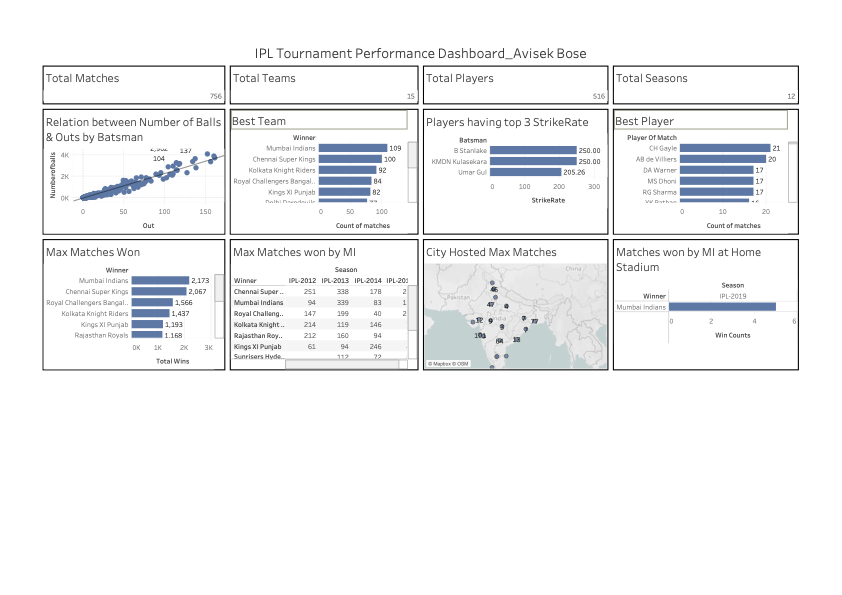

Layout of this report page (visuals, bound fields, positions):
{"tool":"tableau","page":{"name":"IPL Tournament Performance Dashboard_Avisek Bose","canvas":[1000,1000],"units":"permille","ordinal":0},"visuals":[{"type":"title","box":[6.4,11.9,987.3,52.2]},{"type":"worksheet","title":"Total Matches","mark":"Automatic","box":[6.4,64.2,243,129.8]},{"type":"worksheet","title":"Total Teams","mark":"Automatic","box":[249.3,64.2,250.6,129.8]},{"type":"worksheet","title":"Total Players","mark":"Automatic","box":[499.9,64.2,246.8,129.8]},{"type":"worksheet","title":"Total Seasons","mark":"Automatic","box":[746.8,64.2,246.9,129.8]},{"type":"worksheet","title":"Relation between Number of Balls & Outs by Batsman","mark":"Automatic","rows":["numberofballs"],"cols":["out"],"box":[6.4,194,243,388]},{"type":"worksheet","title":"Best Team","mark":"Automatic","rows":["winner"],"cols":["matches_5C6B19491CEA463AA22CF6D216101D35"],"box":[249.3,194,250.6,388]},{"type":"worksheet","title":"Players having top 3 StrikeRate","mark":"Automatic","rows":["batsman"],"cols":["Calculation_3155636050186246"],"box":[499.9,194,246.8,388]},{"type":"worksheet","title":"Best Player","mark":"Automatic","rows":["player_of_match"],"cols":["matches_5C6B19491CEA463AA22CF6D216101D35"],"box":[746.8,194,246.9,388]},{"type":"dashboard-object","box":[0,256.7,19.1,34.3]},{"type":"worksheet","title":"Max Matches Won","mark":"Automatic","rows":["winner"],"cols":["Calculation_3155636037726208"],"box":[6.4,582,243,406.1]},{"type":"worksheet","title":"Max Matches won by MI","mark":"Automatic","rows":["winner"],"cols":["Season"],"box":[249.3,582,250.6,406.1]},{"type":"worksheet","title":"City Hosted Max Matches","mark":"Multipolygon","box":[499.9,582,246.8,406.1]},{"type":"worksheet","title":"Matches won by MI at Home Stadium","mark":"Automatic","rows":["winner"],"cols":["Season","Calculation_3155636040908801"],"box":[746.8,582,246.9,406.1]}]}

Visuals, with their boxes on the dashboard's canvas, which has no fixed pixel size, in thousandths of its width and height (x1, y1, x2, y2). These are canvas units, not pixel positions in the 842x595 screenshot, which may show the page scaled, cropped or inside an application window:
title: region(6, 12, 994, 64)
"Total Matches" worksheet: region(6, 64, 249, 194)
"Total Teams" worksheet: region(249, 64, 500, 194)
"Total Players" worksheet: region(500, 64, 747, 194)
"Total Seasons" worksheet: region(747, 64, 994, 194)
"Relation between Number of Balls & Outs by Batsman" worksheet: region(6, 194, 249, 582)
"Best Team" worksheet: region(249, 194, 500, 582)
"Players having top 3 StrikeRate" worksheet: region(500, 194, 747, 582)
"Best Player" worksheet: region(747, 194, 994, 582)
dashboard-object: region(0, 257, 19, 291)
"Max Matches Won" worksheet: region(6, 582, 249, 988)
"Max Matches won by MI" worksheet: region(249, 582, 500, 988)
"City Hosted Max Matches" worksheet (Multipolygon marks): region(500, 582, 747, 988)
"Matches won by MI at Home Stadium" worksheet: region(747, 582, 994, 988)
